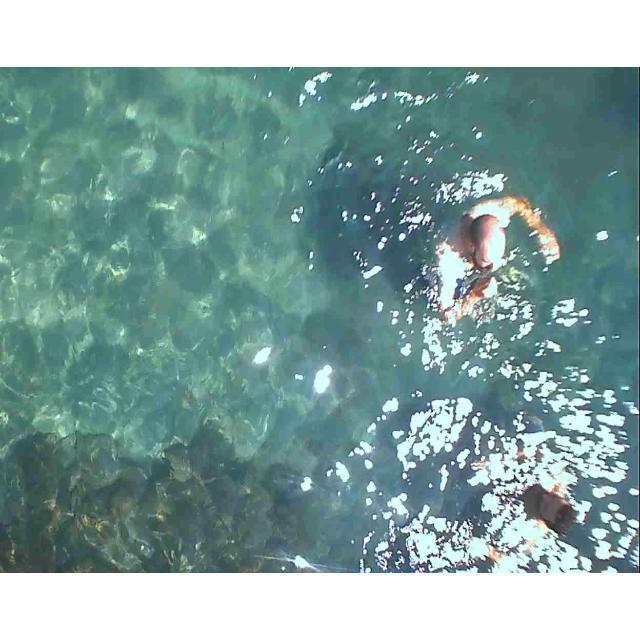no-oil: (9, 77, 640, 579)
